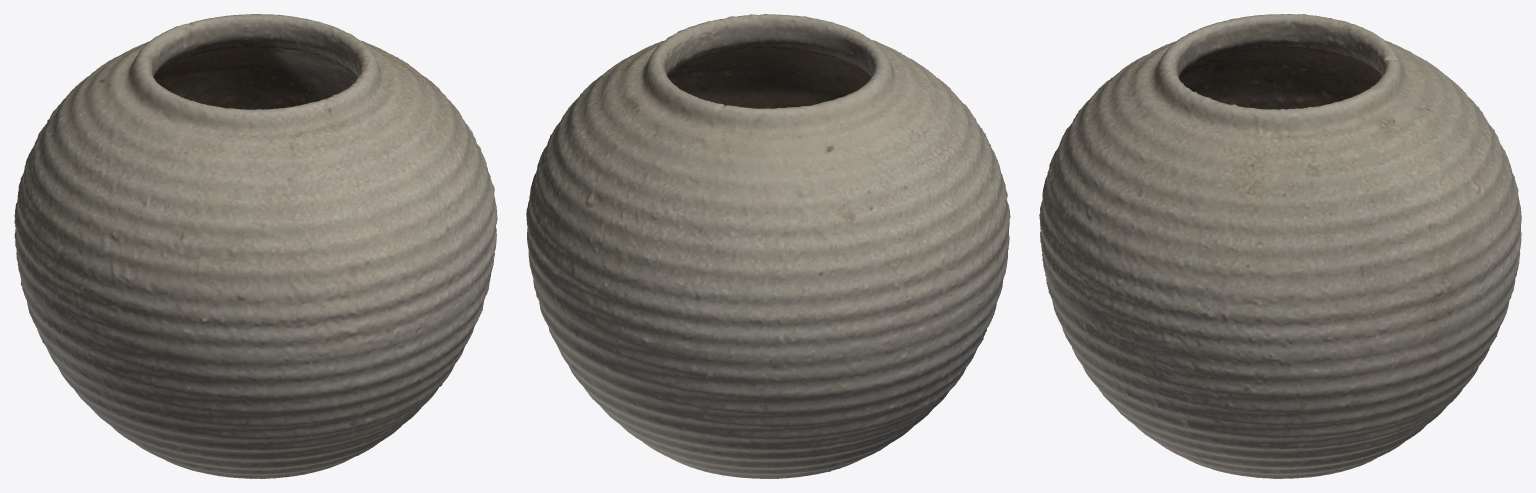
File: 静物_瓶罐_Shaws of Darwen Vase_opt.glb
3 views of the same model, side by side, from view 1: azimuth 30°, elevation 25°; view 2: azimuth 150°, elevation 25°; view 3: azimuth 270°, elevation 25° (orthographic).
Visible parts, largest first — view 1: DarwenTerra_LQ200K_BUV_8K_DarwenTerra_LQ200K_BUV_8K_u0_v0_0; view 2: DarwenTerra_LQ200K_BUV_8K_DarwenTerra_LQ200K_BUV_8K_u0_v0_0; view 3: DarwenTerra_LQ200K_BUV_8K_DarwenTerra_LQ200K_BUV_8K_u0_v0_0.
Part boxes in pixels (x1,y1,x2,y2): DarwenTerra_LQ200K_BUV_8K_DarwenTerra_LQ200K_BUV_8K_u0_v0_0: (14,14,497,478); DarwenTerra_LQ200K_BUV_8K_DarwenTerra_LQ200K_BUV_8K_u0_v0_0: (526,14,1010,478); DarwenTerra_LQ200K_BUV_8K_DarwenTerra_LQ200K_BUV_8K_u0_v0_0: (1039,14,1521,478).
Size of the model in its own units: 0.3494 by 0.3 by 0.3495.
1 material, 1 textured.
